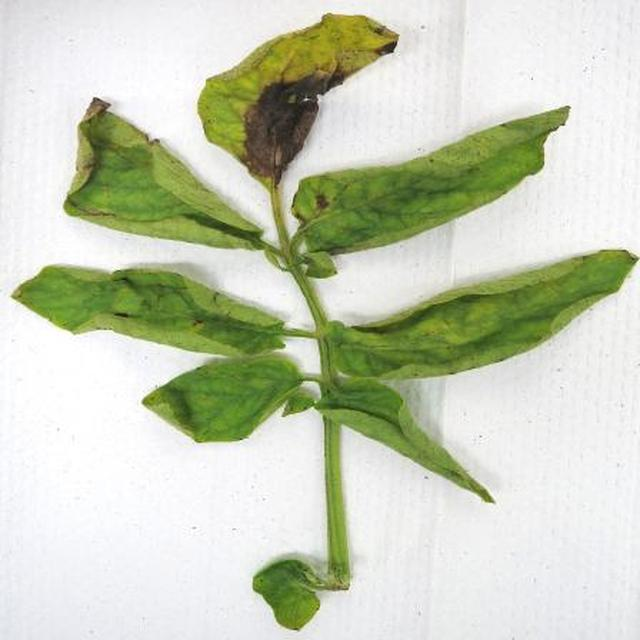Late Blight Leaf: (242, 146, 624, 272)
